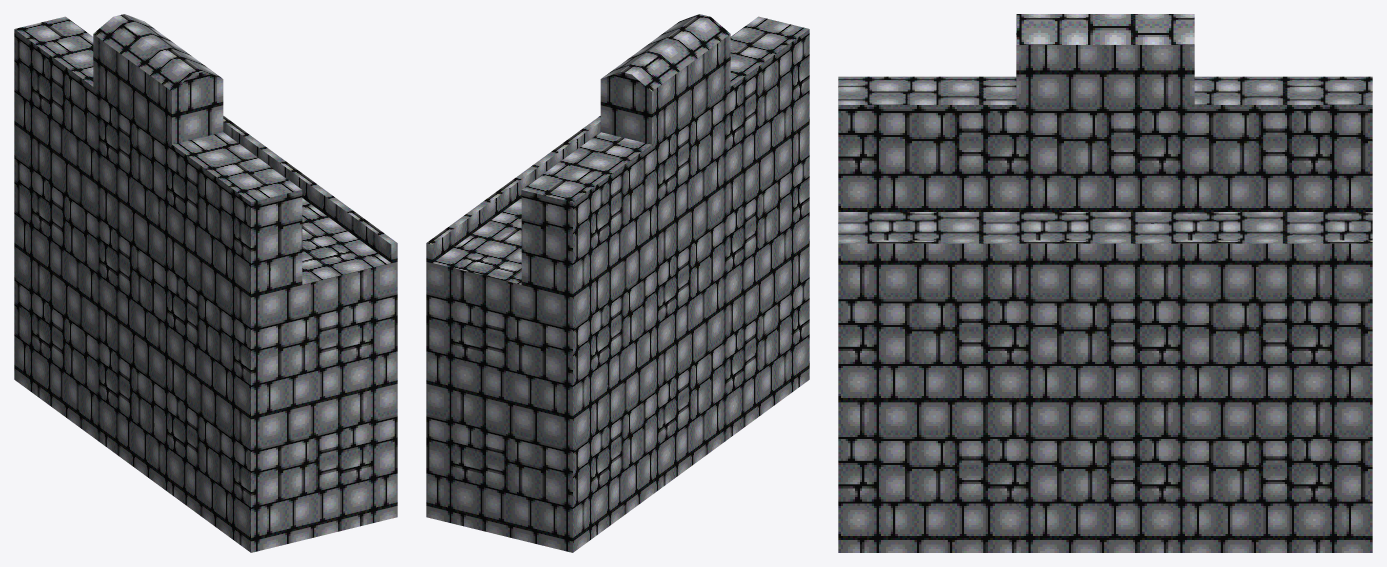
File: citywall.fbx
3 renders of one model, left to right at view 1: azimuth 30°, elevation 25°; view 2: azimuth 150°, elevation 25°; view 3: azimuth 270°, elevation 25°, orthographic. The views are drawn at different scales.
Parts seen in each view (by area): view 1: CityWall; view 2: CityWall; view 3: CityWall.
Boxes of the visible parts, bbox=[...] form: CityWall: bbox=[14, 14, 397, 552]; CityWall: bbox=[426, 14, 809, 552]; CityWall: bbox=[838, 14, 1372, 552].
Bounding box in the file's own units: 1902 × 5152 × 5321.
